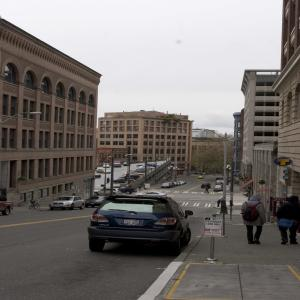Vehicle-registration-plate: (123, 220, 142, 227)
